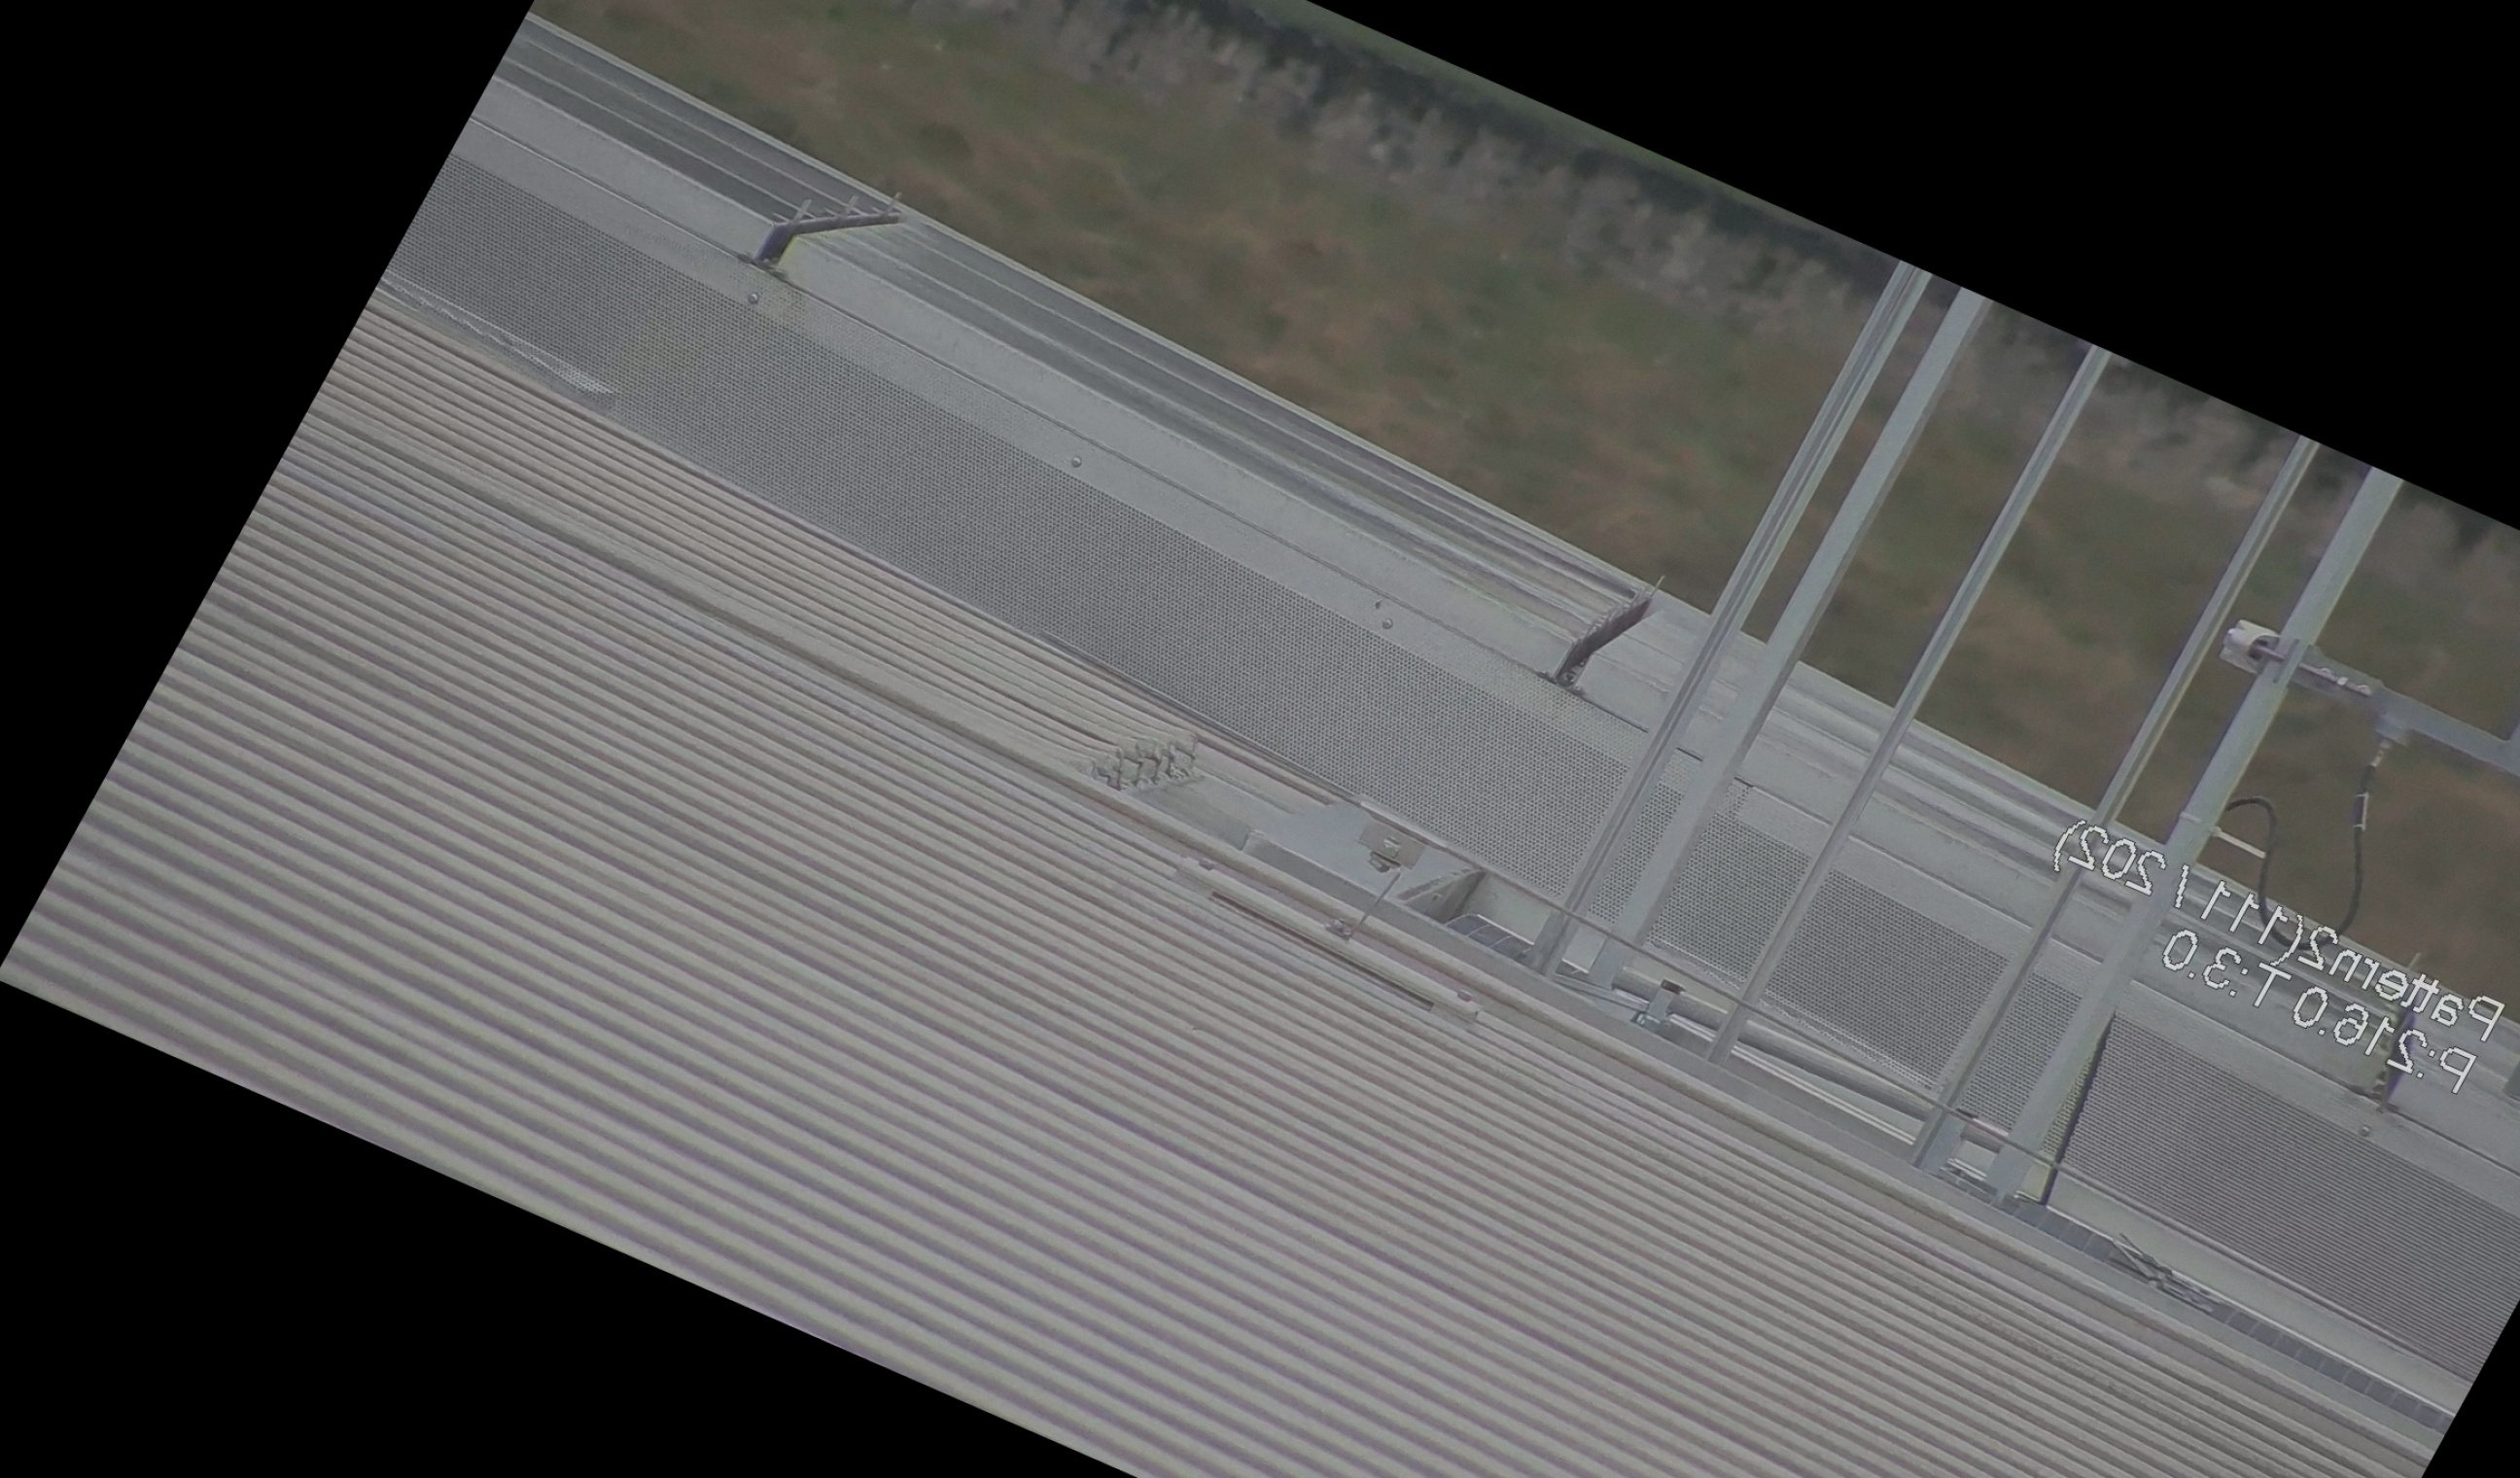Other: (1540, 558, 1679, 711)
